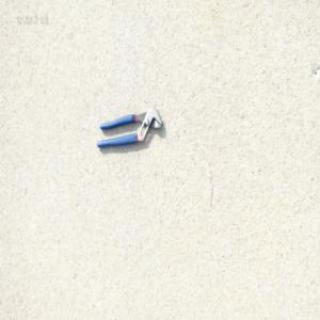Pliertrack_idkeyframe: (94, 105, 163, 149)
